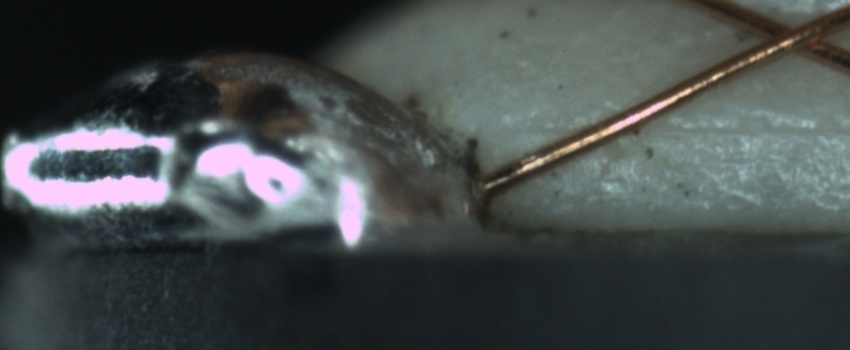CL: (736, 4, 842, 65)
DL: (517, 101, 849, 158)
